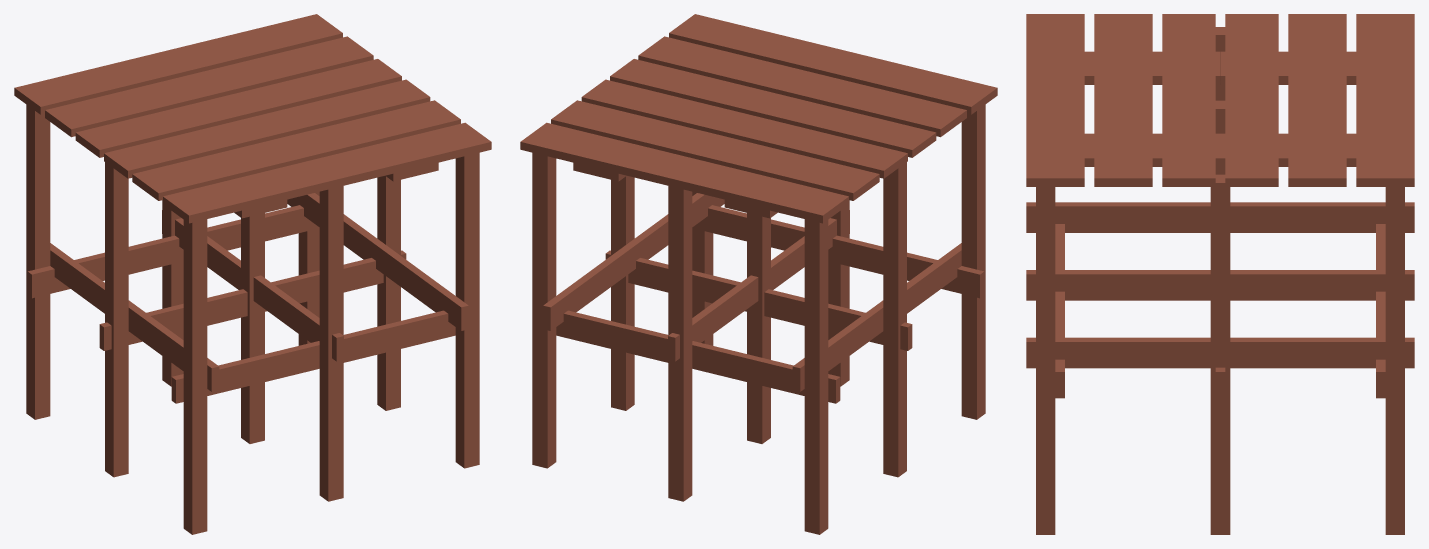
The model's file is scaffold_high 1.fbx.
3 renders of one model, left to right at view 1: azimuth 30°, elevation 25°; view 2: azimuth 150°, elevation 25°; view 3: azimuth 270°, elevation 25°, orthographic. The views are drawn at different scales.
Parts seen in each view (by area): view 1: scaffold_high; view 2: scaffold_high; view 3: scaffold_high.
Boxes of the visible parts, x1,y1,x2,y2 form: scaffold_high: (14,14,491,534); scaffold_high: (520,14,997,534); scaffold_high: (1026,14,1414,534).
Bounding box in the file's own units: 400 × 410 × 400.
